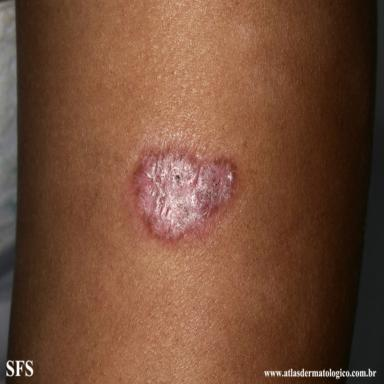Lupus-Erythematosus-Chronicus-Discoides: (131, 145, 240, 243)
